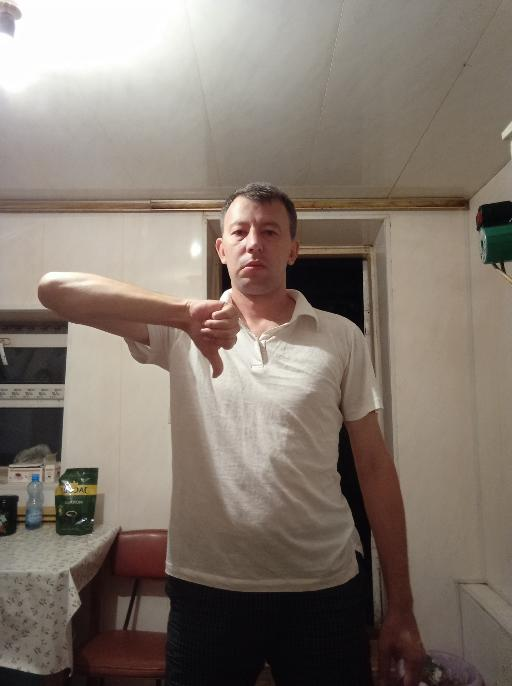dislike: (184, 295, 240, 378)
no_gesture: (374, 611, 428, 684)
